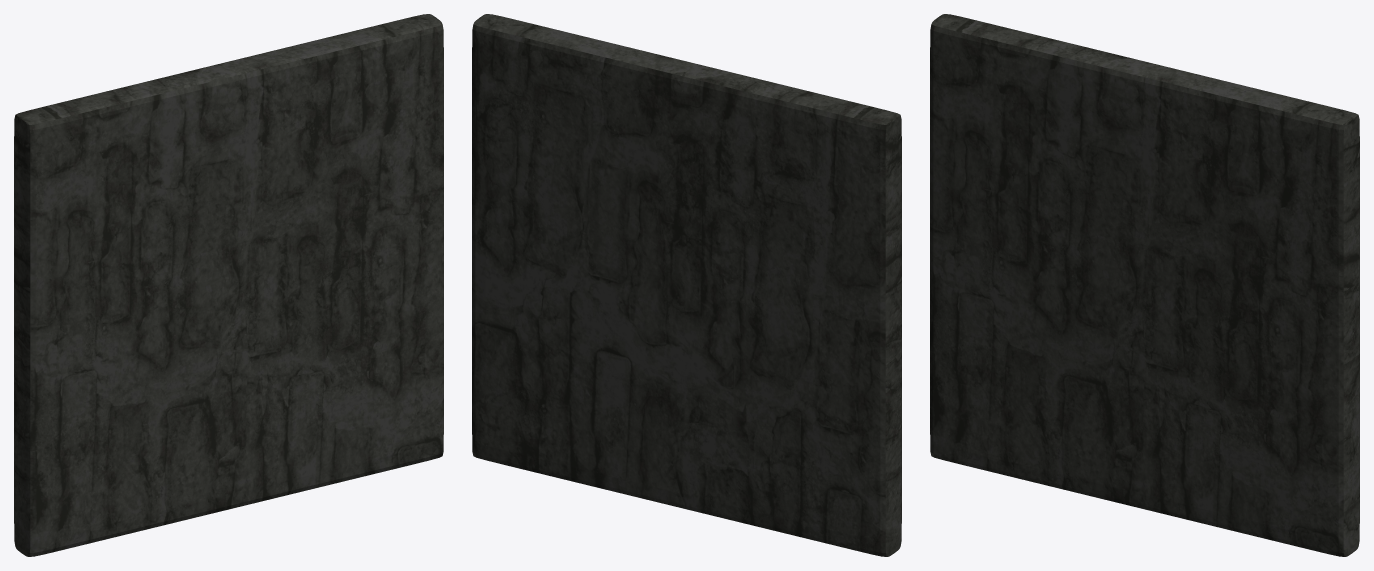
The model's file is duvar_arkaplan.fbx.
3 renders of one model, left to right at view 1: azimuth 30°, elevation 25°; view 2: azimuth 150°, elevation 25°; view 3: azimuth 330°, elevation 25°, orthographic.
Visible parts, largest first — view 1: Cube; view 2: Cube; view 3: Cube.
Part boxes in pixels (<box>): Cube: <box>14,14,443,556</box>; Cube: <box>472,14,901,556</box>; Cube: <box>930,14,1359,556</box>.
Size of the model in its own units: 10147 by 10145 by 800.
